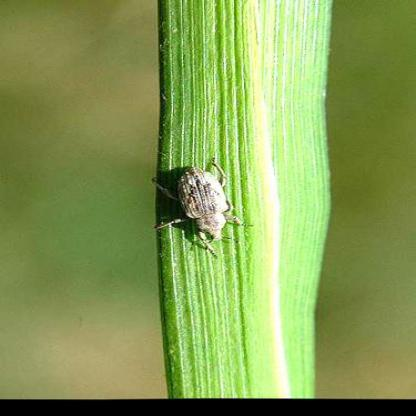rice-bug: (161, 163, 241, 248)
